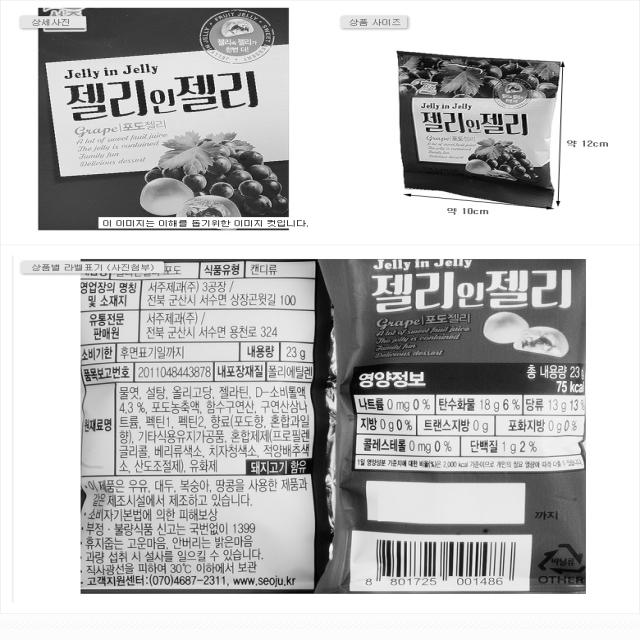Nutrition Label: (346, 358, 590, 480)
